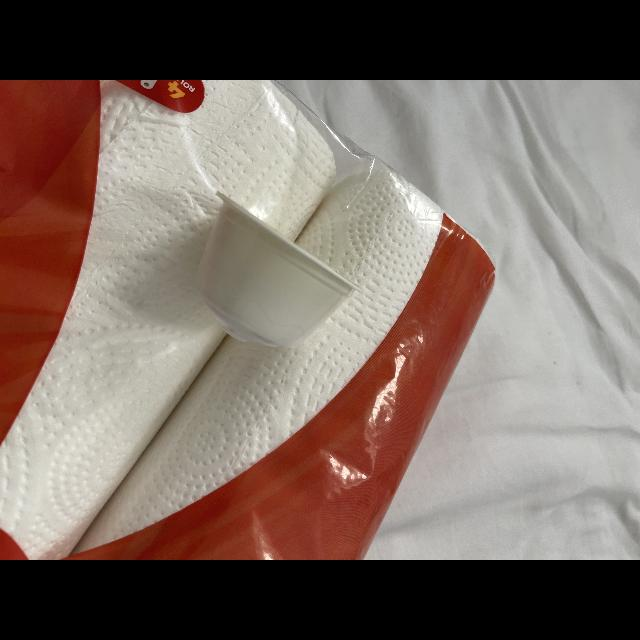intact_capsule: (190, 186, 362, 362)
